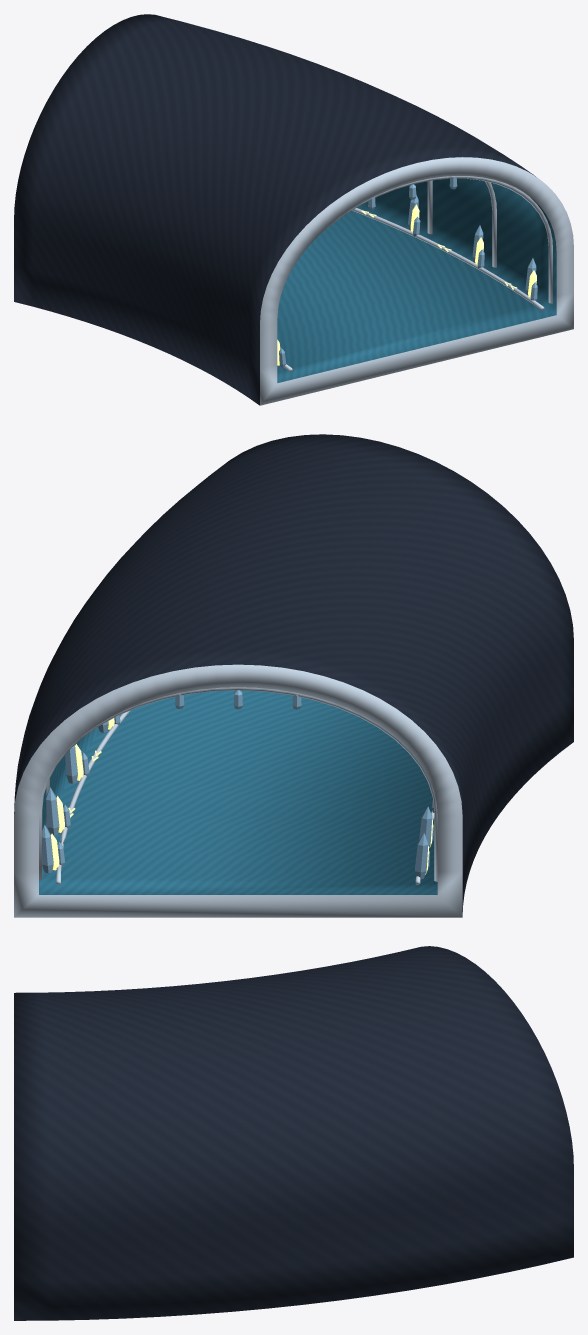
Rendered from curve_left_30_lod1.glb.
The picture shows the model from 3 angles, top to bottom: view 1: azimuth 30°, elevation 25°; view 2: azimuth 150°, elevation 25°; view 3: azimuth 270°, elevation 25°; orthographic projection. The views are drawn at different scales.
Visible parts, largest first — view 1: TunnelGeometry.001; view 2: TunnelGeometry.001; view 3: TunnelGeometry.001.
Boxes of the visible parts, box(x1,y1,x2,y2) form: TunnelGeometry.001: box(14, 14, 573, 405); TunnelGeometry.001: box(14, 434, 573, 917); TunnelGeometry.001: box(14, 946, 573, 1320).
Size of the model in its own units: 19.1 by 9.52 by 21.83.
Materials: 5 (2 with a texture image).
